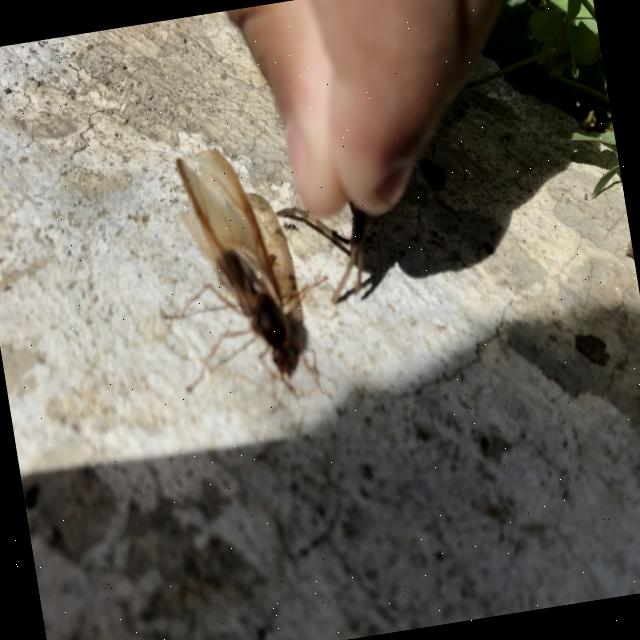Alive-Male-Alate: (135, 133, 349, 424)
